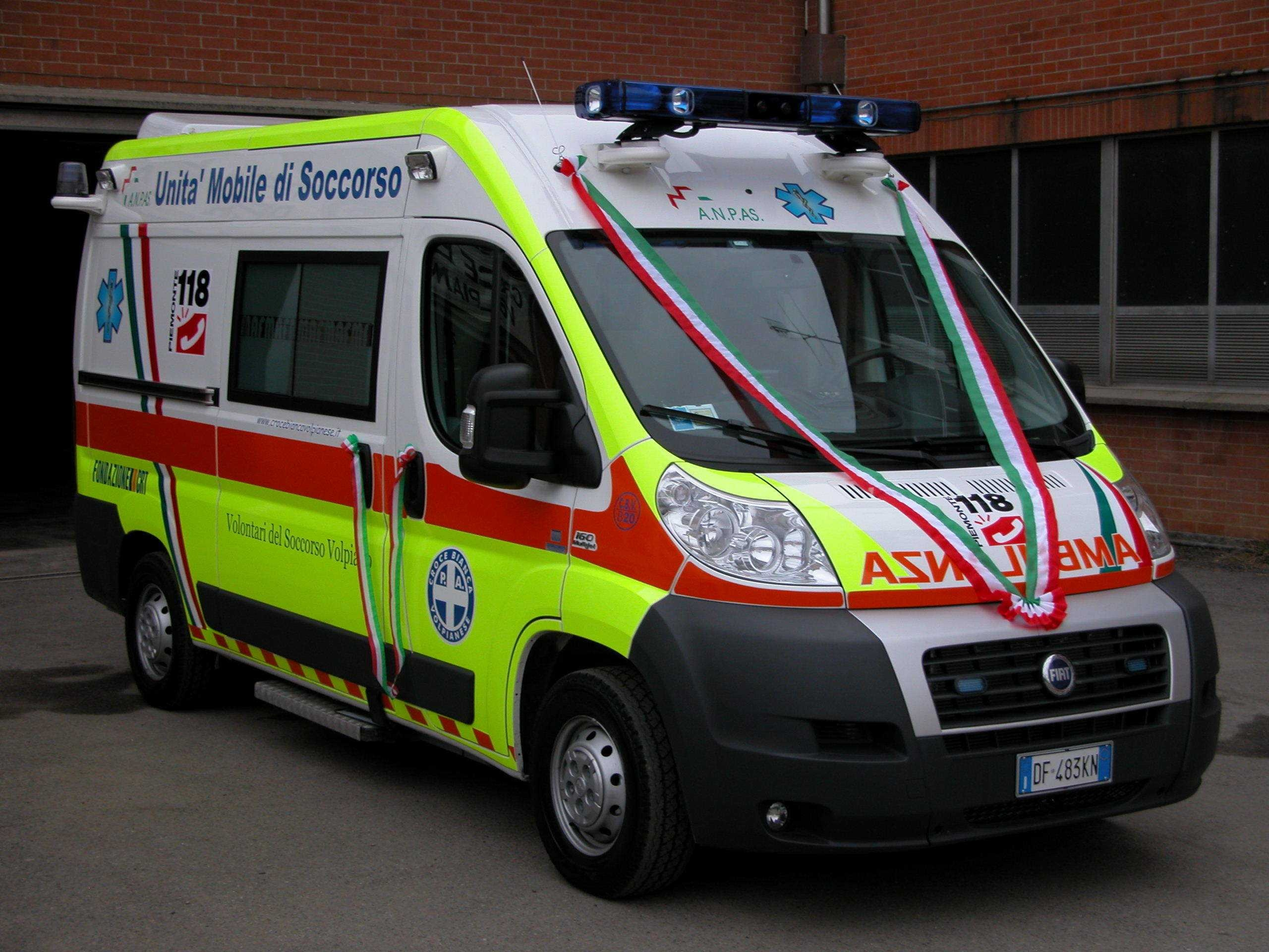Police Van: (68, 30, 1212, 933)
